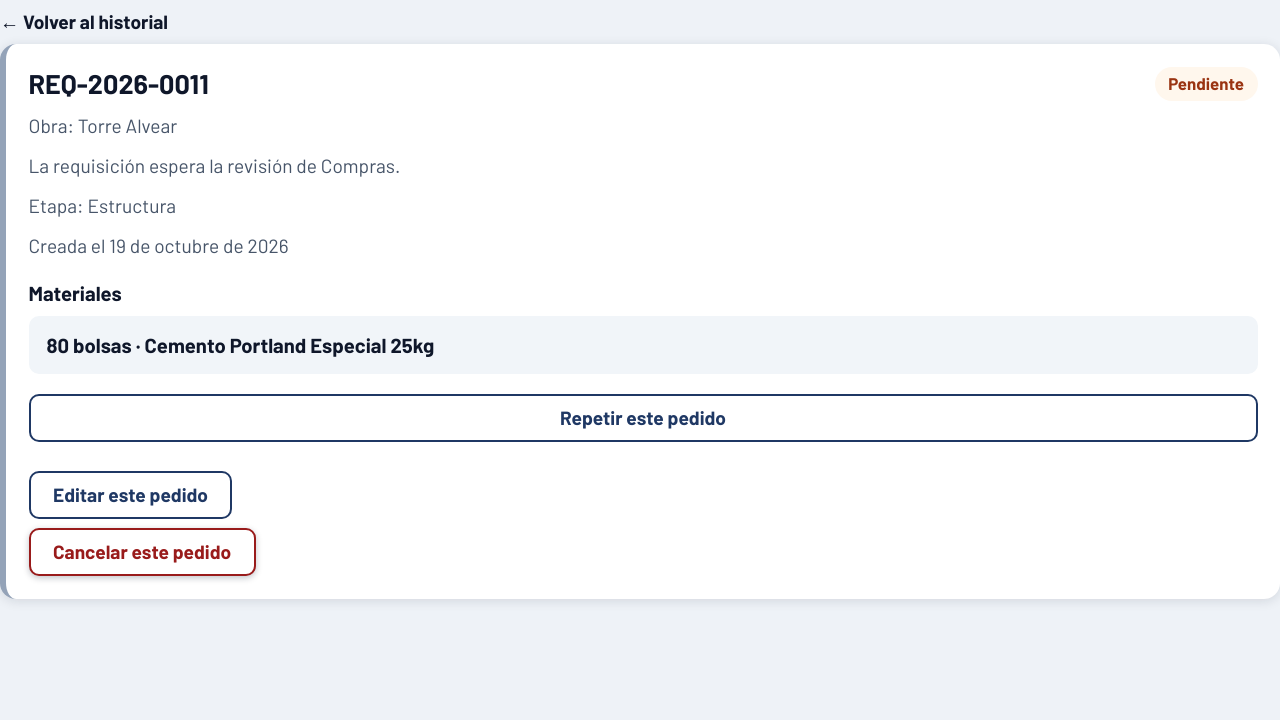
DetalleRequisicionPage › si Compras ya la aprobó, cancelar muestra un aviso claro (409)
Click the button "Cancelar este pedido": coordinates (142, 552) [28,528,256,576]
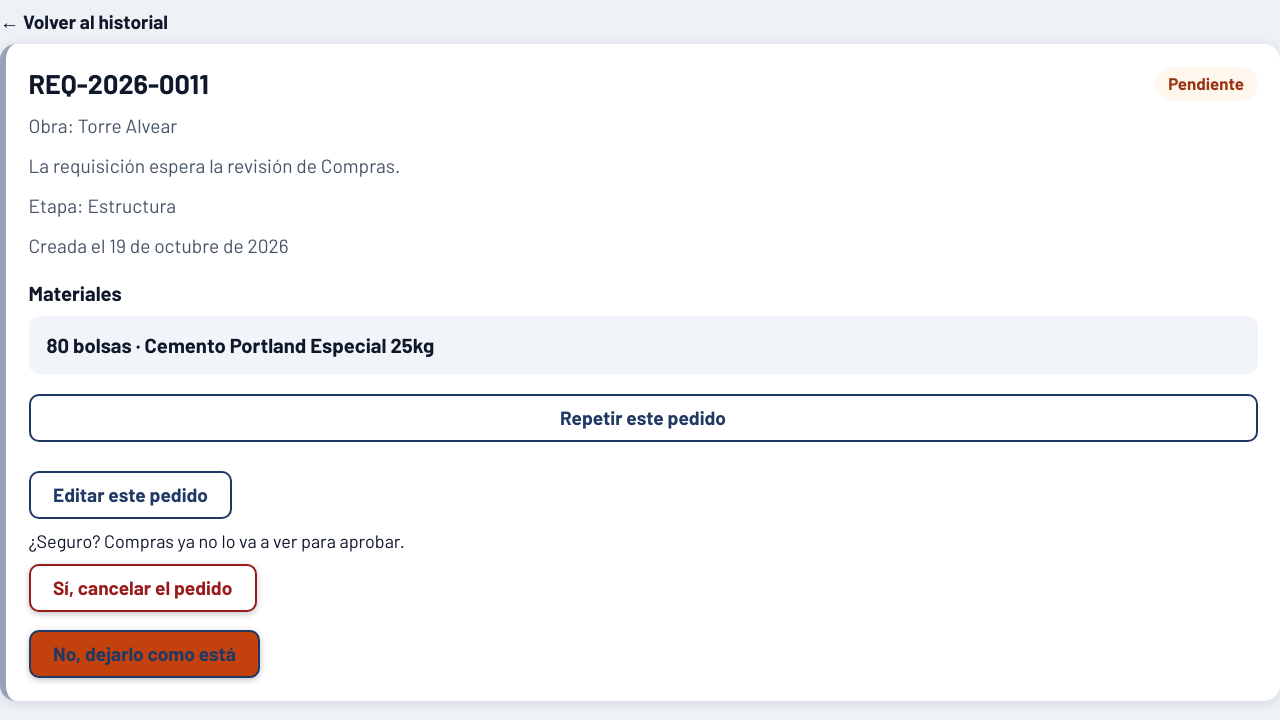
Click the button "Sí, cancelar el pedido": coordinates (143, 588) [28,564,257,612]
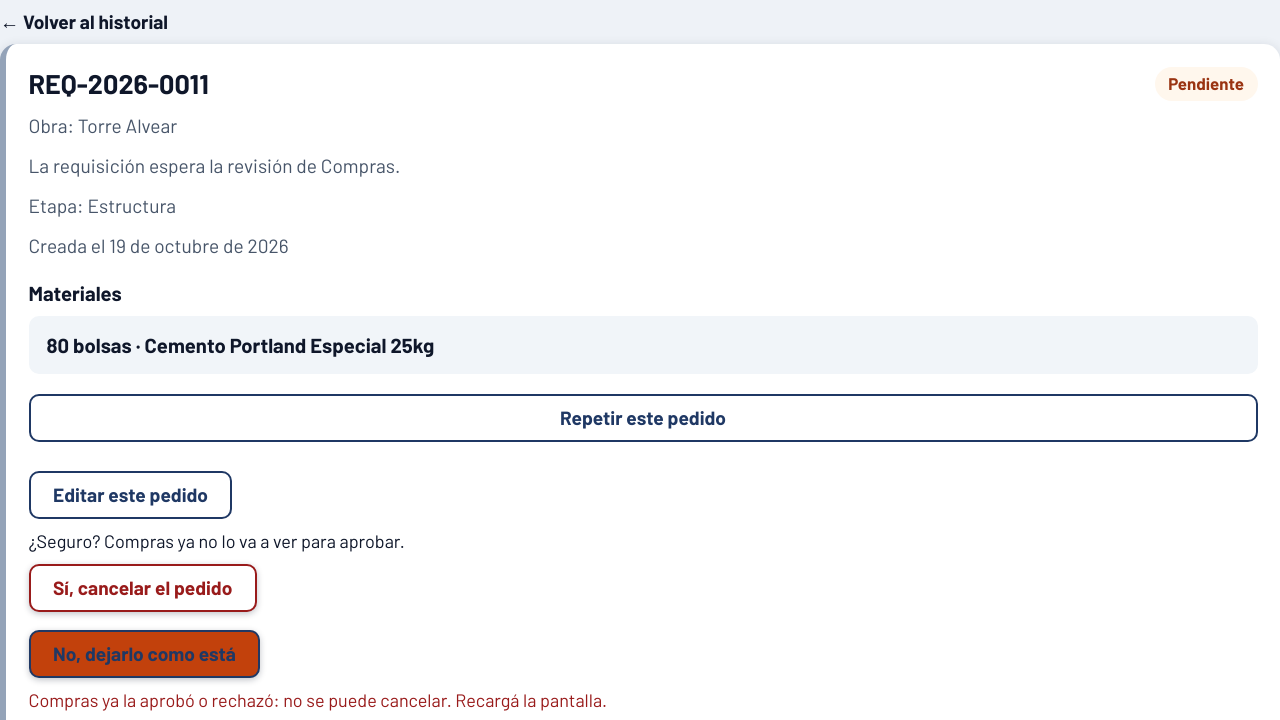
Result: the message shows "Compras ya la aprobó o rechazó" at [28,689,607,711]
